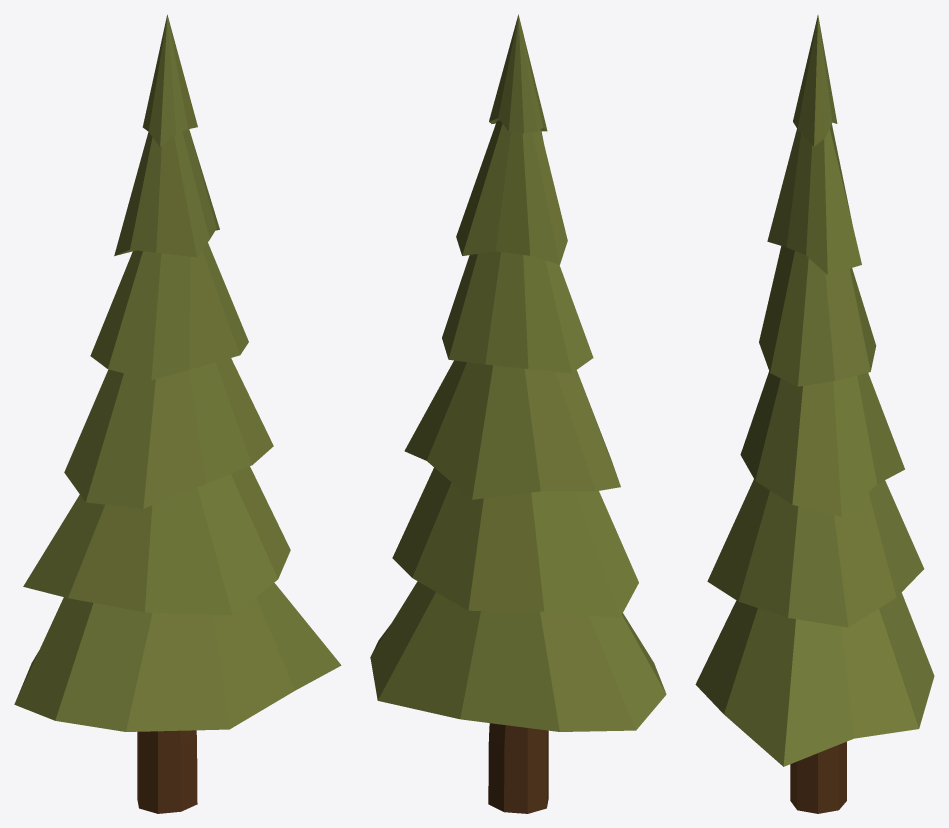
Rendered from PineTree.fbx.
3 views of the same model, side by side, from view 1: azimuth 30°, elevation 25°; view 2: azimuth 150°, elevation 25°; view 3: azimuth 270°, elevation 25° (orthographic).
Visible parts, largest first — view 1: Pine tree; view 2: Pine tree; view 3: Pine tree.
Boxes of the visible parts, box(x1,y1,x2,y2) form: Pine tree: box(14, 14, 341, 813); Pine tree: box(370, 14, 666, 813); Pine tree: box(695, 14, 934, 813).
Bounding box in the file's own units: 435 × 1119 × 308.
